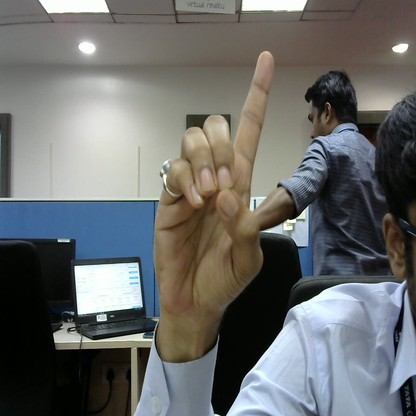d: (142, 44, 276, 329)
